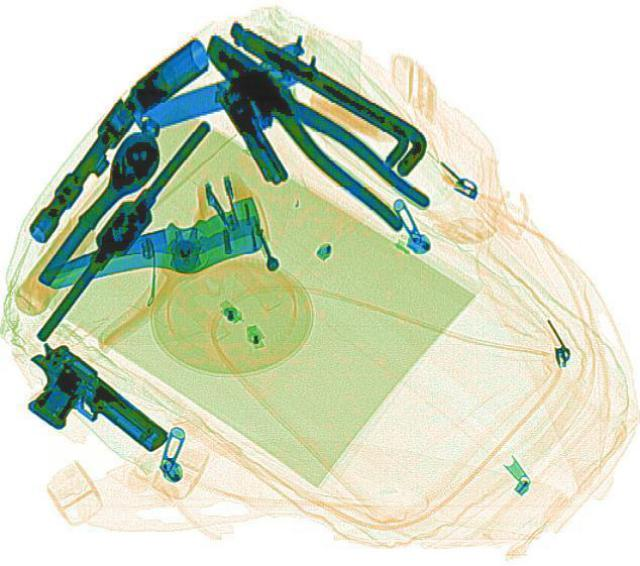Gun: (0, 337, 178, 476)
Pliers: (190, 20, 432, 233)
